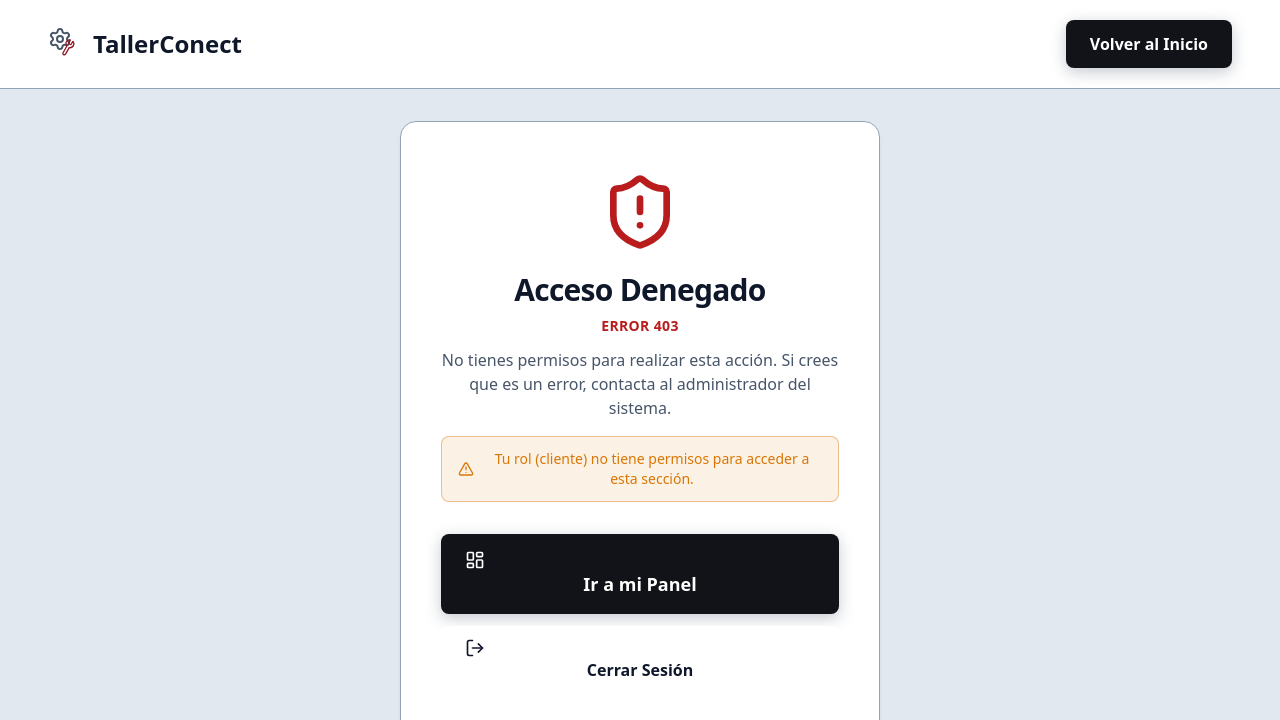
AppRoutes: navegación por los tres roles › portal administrador › desde acceso denegado el cliente vuelve a su propio panel
The width and height of the screenshot is (1280, 720).
Click the button "Ir a mi Panel" at (640, 574), box [441,534,839,614]
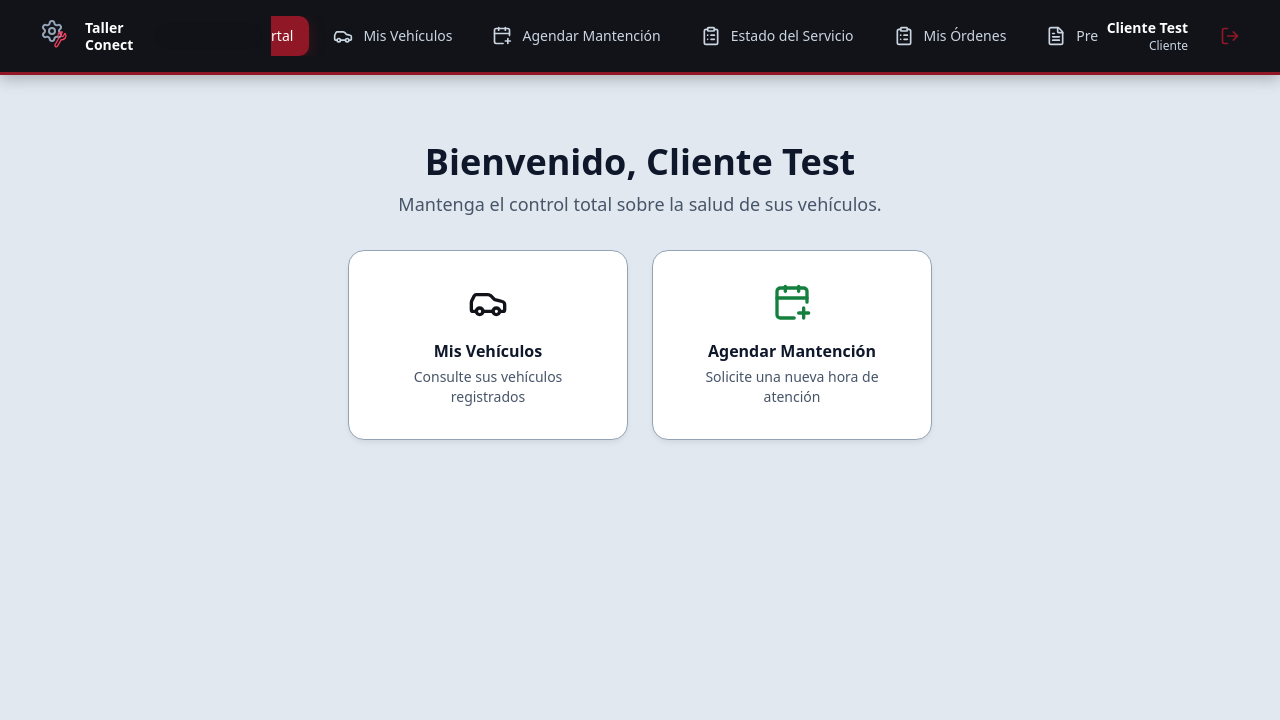
Check: the heading "Bienvenido, Cliente Test" is shown, box [398,142,882,182]
